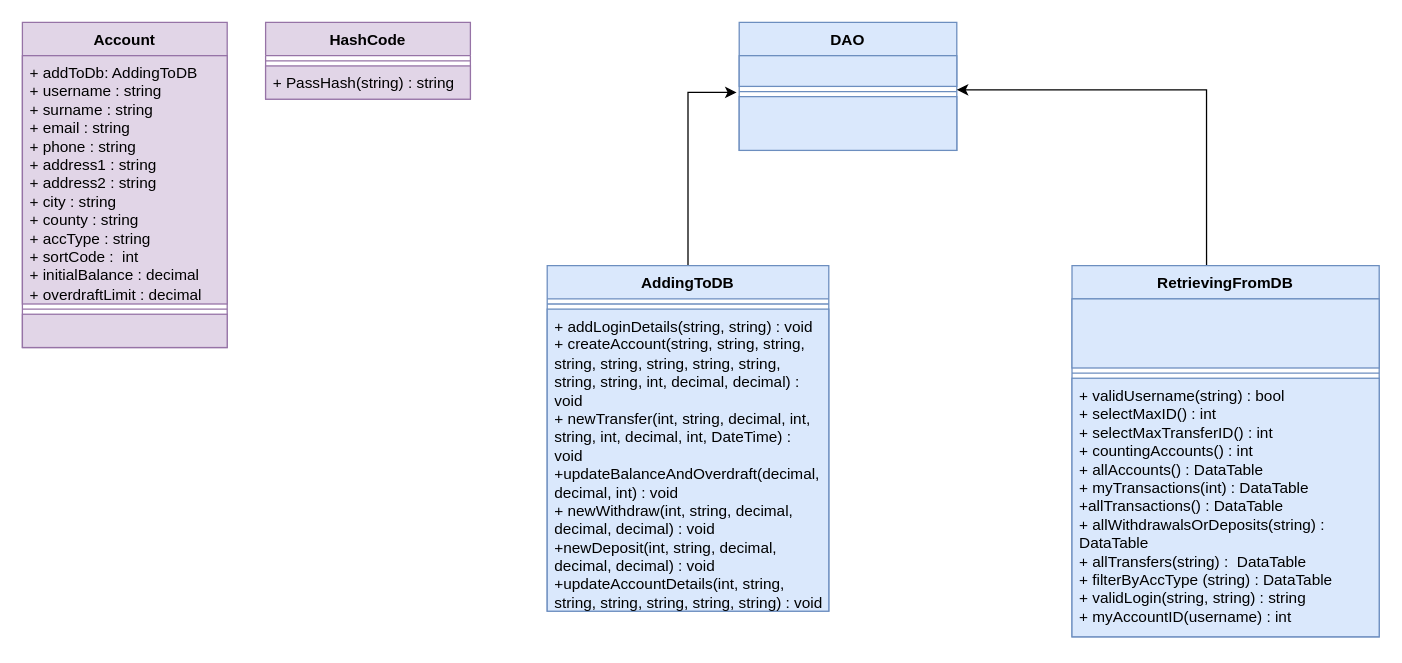
Some shapes in this 1402 by 663 pixel diagram are drawn without their labels. The centre of each missing label's shape, as x and y in pixels:
"+ con : SqlConnection" goes at pixel 847 70.
"+ CreateAccount() : void" goes at pixel 124 330.
"+ dr : SqlDataReader + dt : DataTable + da : SqlDataAdapter" goes at pixel 1225 333.
"+ OpenCon() : SqlConnection + CloseCon() : void" goes at pixel 847 122.
